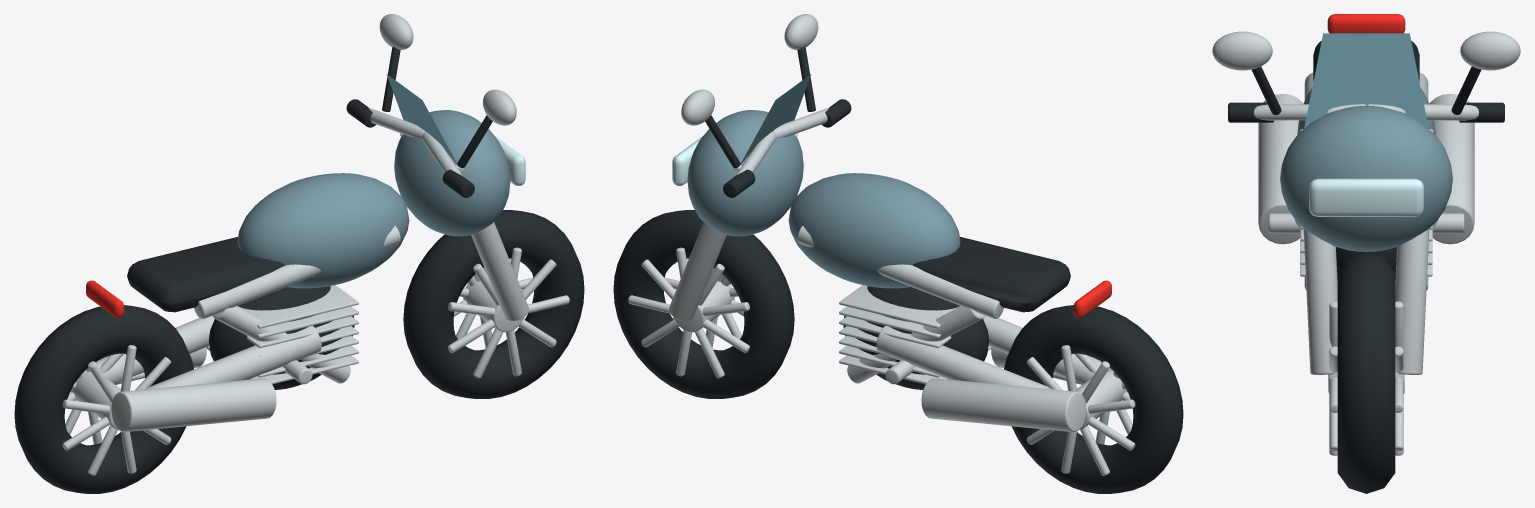
The model's file is Motorcycle.fbx.
The picture shows the model from 3 angles, left to right: view 1: azimuth 30°, elevation 25°; view 2: azimuth 150°, elevation 25°; view 3: azimuth 270°, elevation 25°; orthographic projection. The views are drawn at different scales.
Visible parts, largest first — view 1: BrushedAlloy.002, BodyPaint, TrimRubber, TrimRubber.001, TrimRubber.002, BrushedAlloy, BrushedAlloy.001, Glazing, Taillamp, Headlamp; view 2: BrushedAlloy.002, BodyPaint, TrimRubber, TrimRubber.001, TrimRubber.002, BrushedAlloy, BrushedAlloy.001, Glazing, Taillamp, Headlamp; view 3: BrushedAlloy.002, BodyPaint, TrimRubber, Glazing, Headlamp, TrimRubber.002, BrushedAlloy, Taillamp.
Part boxes in pixels (<box>): BrushedAlloy.002: <box>96,14,528,432</box>; BodyPaint: <box>237,110,510,288</box>; TrimRubber: <box>403,210,584,398</box>; TrimRubber.001: <box>14,305,193,493</box>; TrimRubber.002: <box>127,46,492,389</box>; BrushedAlloy: <box>448,247,569,378</box>; BrushedAlloy.001: <box>62,345,171,475</box>; Glazing: <box>386,74,457,164</box>; Taillamp: <box>86,280,124,317</box>; Headlamp: <box>495,136,525,185</box>; BrushedAlloy.002: <box>669,14,1101,432</box>; BodyPaint: <box>687,110,960,288</box>; TrimRubber: <box>613,210,794,398</box>; TrimRubber.001: <box>1004,305,1183,493</box>; TrimRubber.002: <box>705,46,1070,389</box>; BrushedAlloy: <box>628,247,749,378</box>; BrushedAlloy.001: <box>1026,345,1135,475</box>; Glazing: <box>740,74,811,164</box>; Taillamp: <box>1073,280,1111,317</box>; Headlamp: <box>672,136,702,185</box>; BrushedAlloy.002: <box>1212,31,1520,374</box>; BodyPaint: <box>1280,88,1452,251</box>; TrimRubber: <box>1337,252,1395,493</box>; Glazing: <box>1304,33,1428,128</box>; Headlamp: <box>1309,178,1423,216</box>; TrimRubber.002: <box>1228,41,1504,279</box>; BrushedAlloy: <box>1328,301,1404,455</box>; Taillamp: <box>1327,14,1405,33</box>.
Size of the model in its own units: 271 by 162 by 107.
